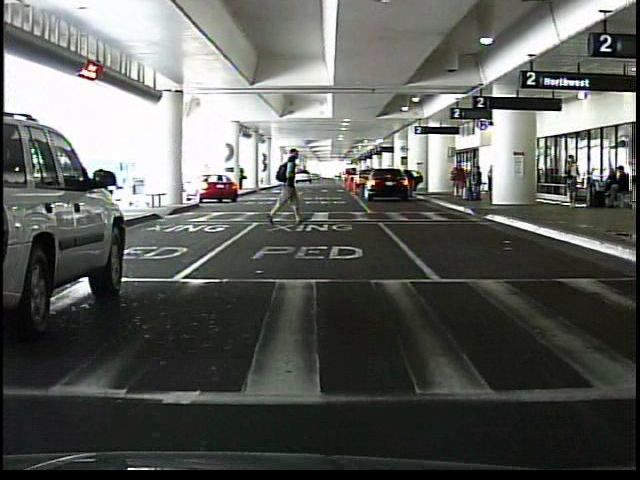person: (263, 146, 303, 225), (448, 160, 469, 200), (566, 159, 581, 207), (470, 166, 483, 201)
